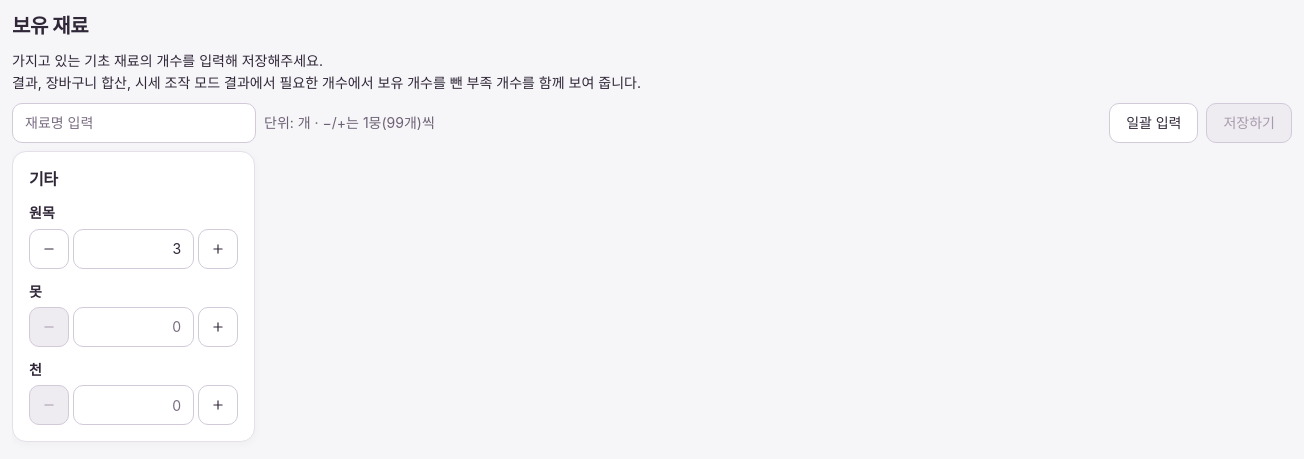
Test: InventoryPage › 저장된 보유 개수를 채우고, 저장된 값과 달라진 재료만 저장한다
Expected: the number field labelled "원목 보유 개수" holds "3", [86, 230, 181, 268]
Expected: the button "저장하기" is disabled, [1206, 103, 1292, 143]
Step 1. Type "120" into the number field labelled "못 보유 개수" → (134, 327), box [86, 308, 181, 346]
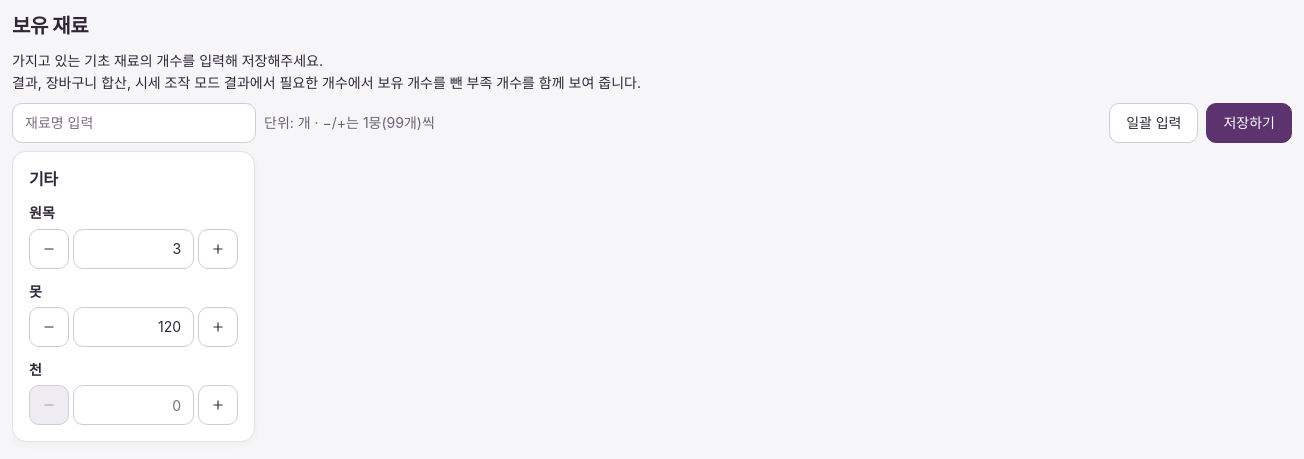
Step 2. Type "4" into the number field labelled "천 보유 개수" → (134, 405), box [86, 386, 181, 424]
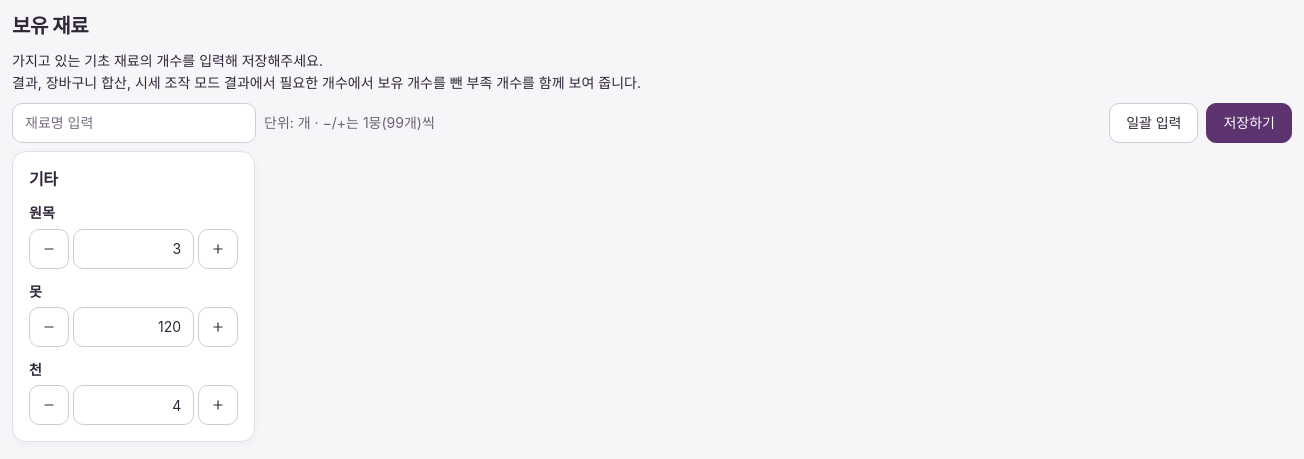
Step 3. Replace the text in the number field labelled "천 보유 개수" with "0" → (134, 405), box [86, 386, 181, 424]
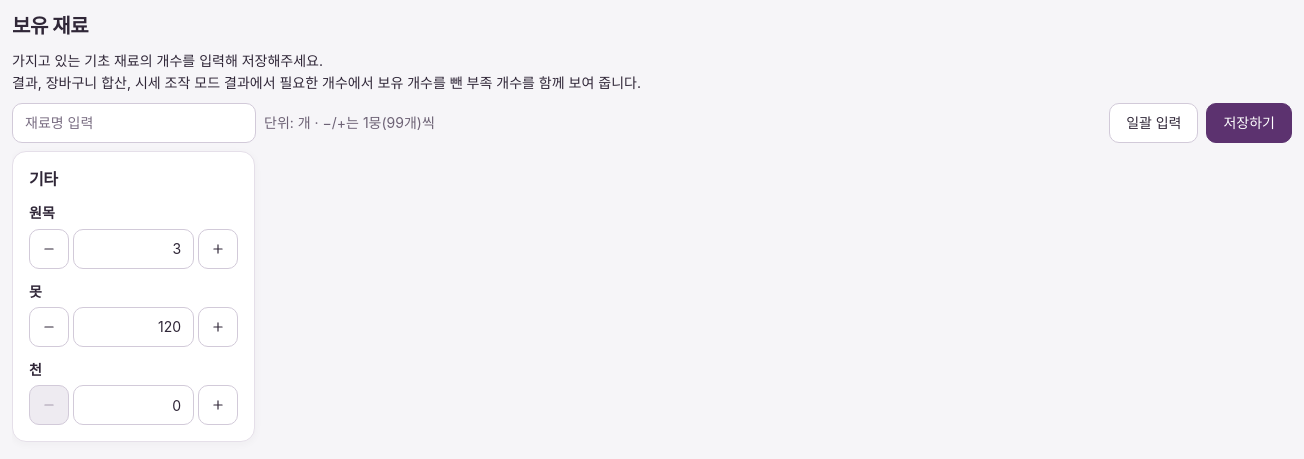
Step 4. Click the button "저장하기" → (1249, 123), box [1206, 103, 1292, 143]
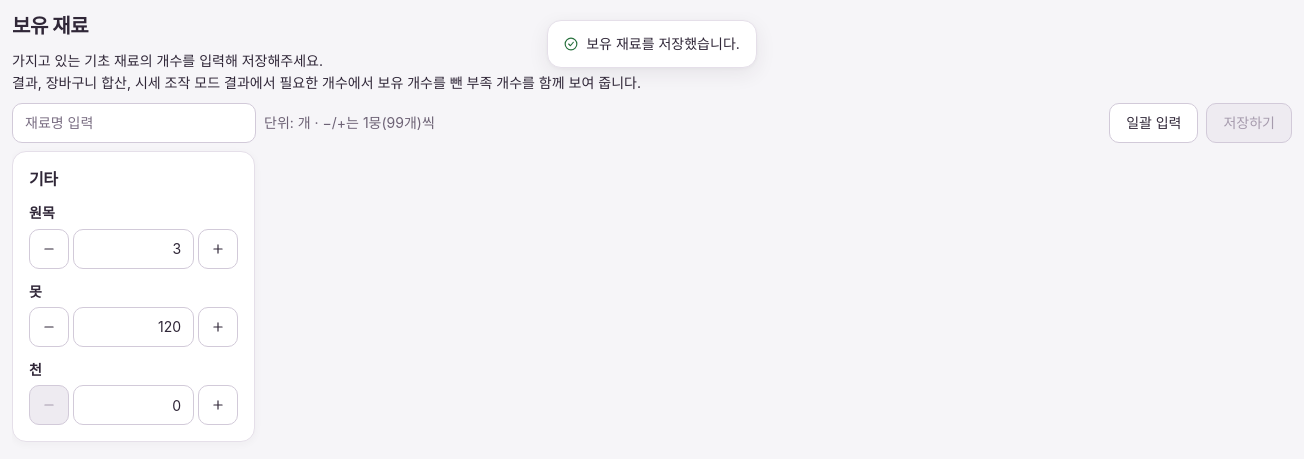
Now the text "보유 재료를 저장했습니다." is shown, box [586, 33, 740, 55]
Now the button "저장하기" is disabled, box [1206, 103, 1292, 143]
